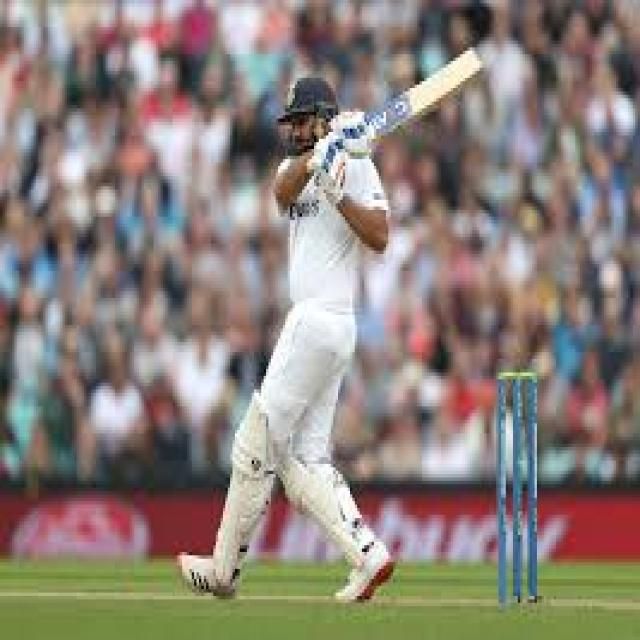toe: (454, 38, 488, 84)
